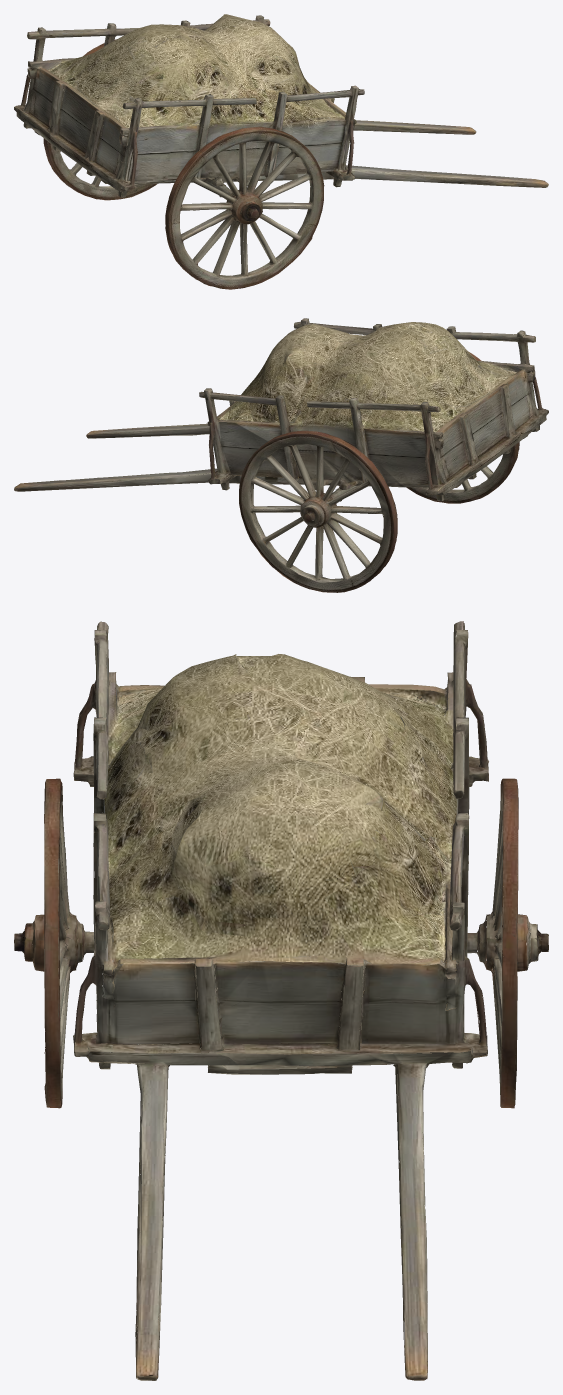
The model's file is hay-cart.glb.
The picture shows the model from 3 angles, top to bottom: view 1: azimuth 30°, elevation 25°; view 2: azimuth 150°, elevation 25°; view 3: azimuth 270°, elevation 25°; orthographic projection. The views are drawn at different scales.
Visible parts, largest first — view 1: Mesh_0; view 2: Mesh_0; view 3: Mesh_0.
Part boxes in pixels (box(x1,y1,x2,y2)): Mesh_0: box(14, 14, 548, 289); Mesh_0: box(14, 318, 548, 592); Mesh_0: box(14, 621, 548, 1380).
Bounding box in the file's own units: 1.9 × 0.8922 × 1.06.
1 material, 1 textured.
